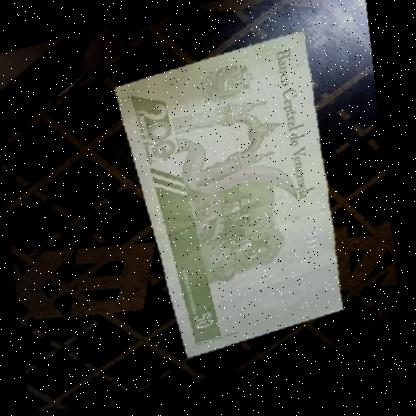fifty-back-vef: (100, 29, 364, 371)
